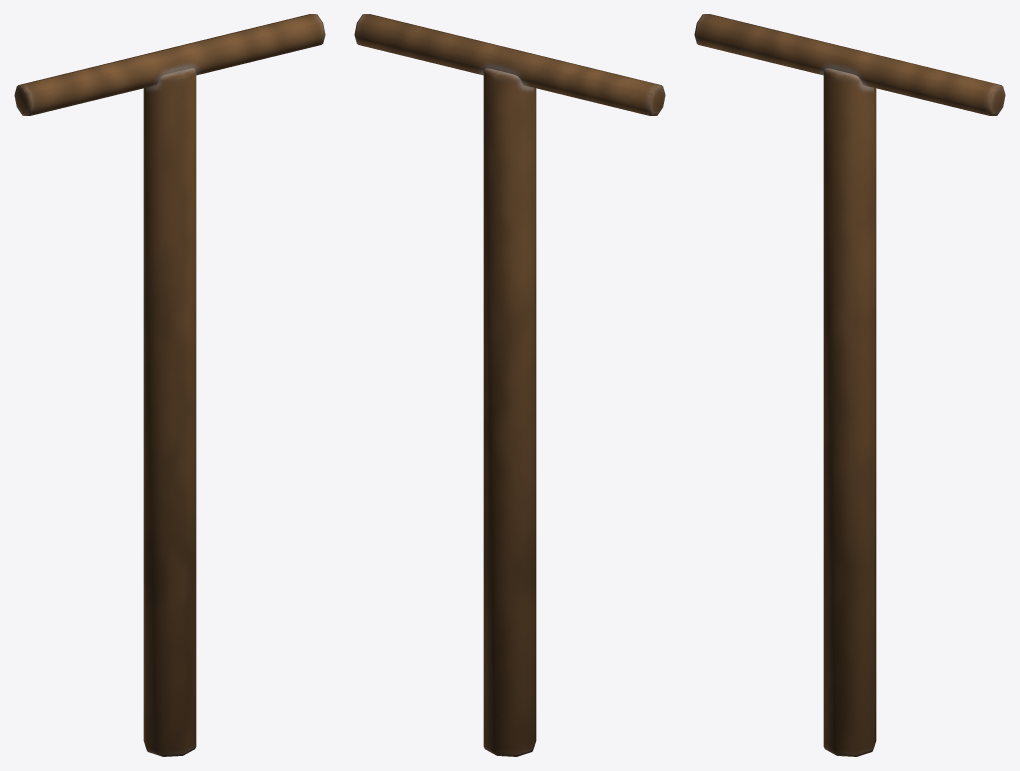
File: tf_parrot_perch.glb
3 renders of one model, left to right at view 1: azimuth 30°, elevation 25°; view 2: azimuth 150°, elevation 25°; view 3: azimuth 330°, elevation 25°, orthographic.
Visible parts, largest first — view 1: tf_parrot_perch; view 2: tf_parrot_perch; view 3: tf_parrot_perch.
Part boxes in pixels (left/top/right/bottom): tf_parrot_perch: left=14, top=14, right=325, bottom=756; tf_parrot_perch: left=354, top=14, right=665, bottom=756; tf_parrot_perch: left=694, top=14, right=1005, bottom=756.
Size of the model in its own units: 1 by 2.25 by 0.16.
1 material, 1 textured.
